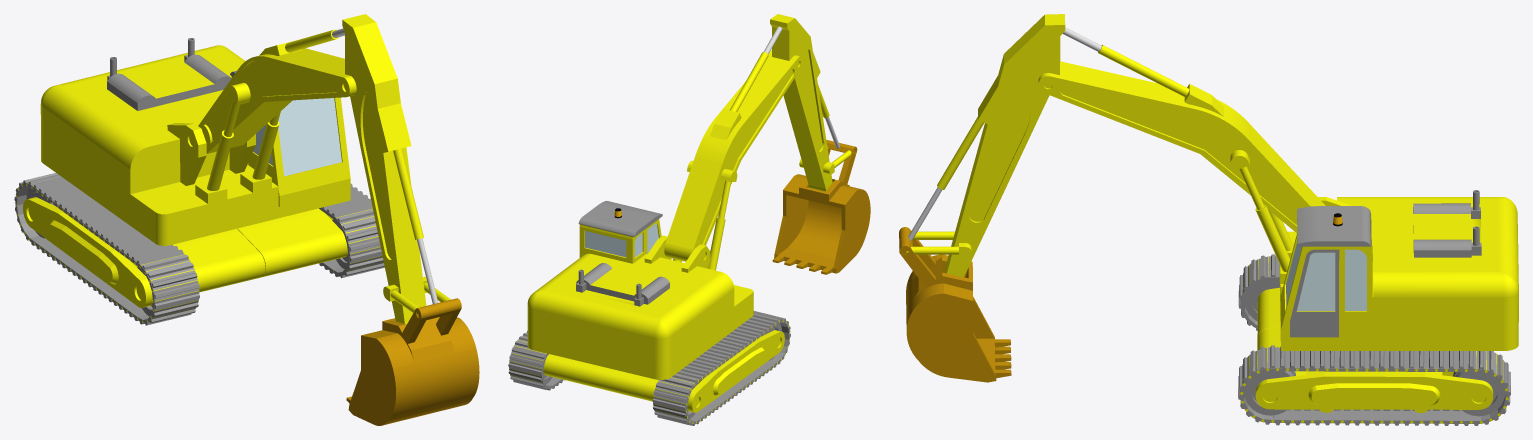
The model's file is BackHoe.fbx.
3 renders of one model, left to right at view 1: azimuth 30°, elevation 25°; view 2: azimuth 150°, elevation 25°; view 3: azimuth 270°, elevation 25°, orthographic. The views are drawn at different scales.
Parts seen in each view (by area): view 1: BackHoe; view 2: BackHoe; view 3: BackHoe.
Part boxes in pixels (left/top/right/bottom): BackHoe: left=14, top=14, right=479, bottom=425; BackHoe: left=508, top=14, right=870, bottom=425; BackHoe: left=899, top=14, right=1518, bottom=425.
Size of the model in its own units: 375 by 517 by 843.
